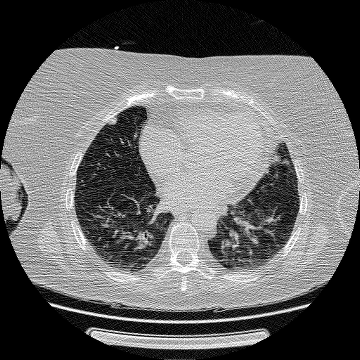nodule: (109, 117, 117, 125)
